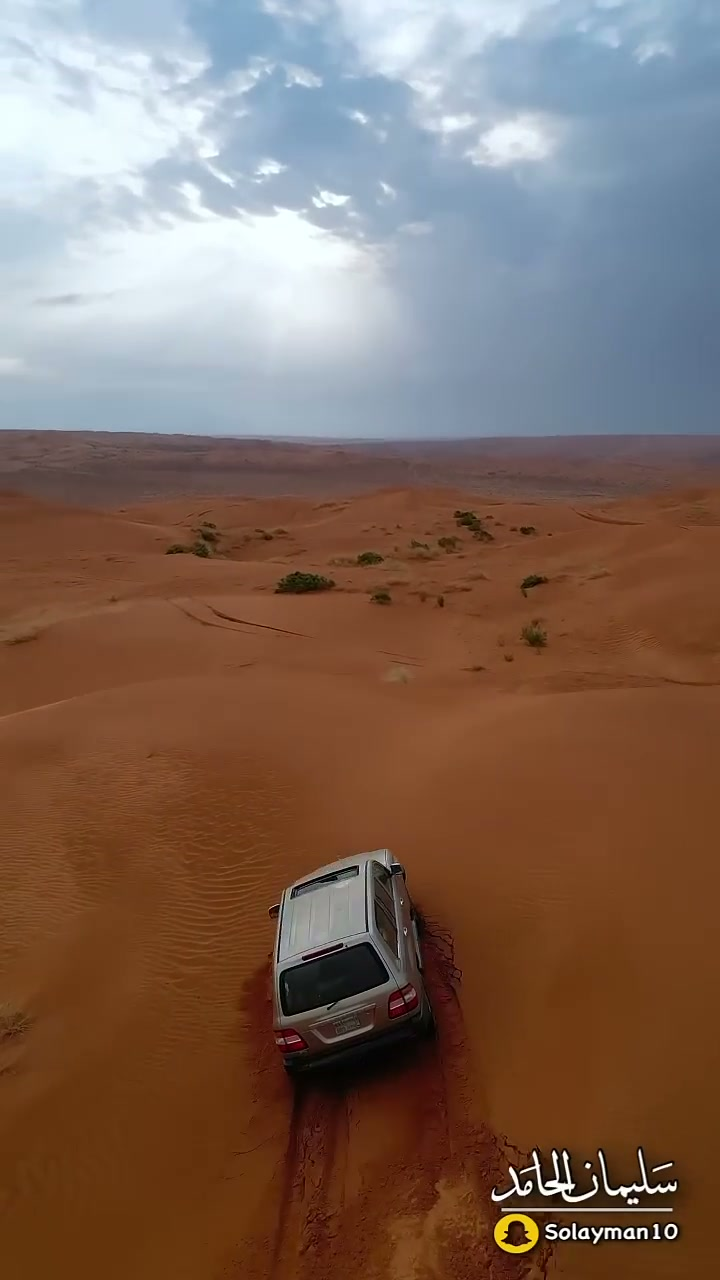vehicle_track: (223, 920, 551, 1279)
